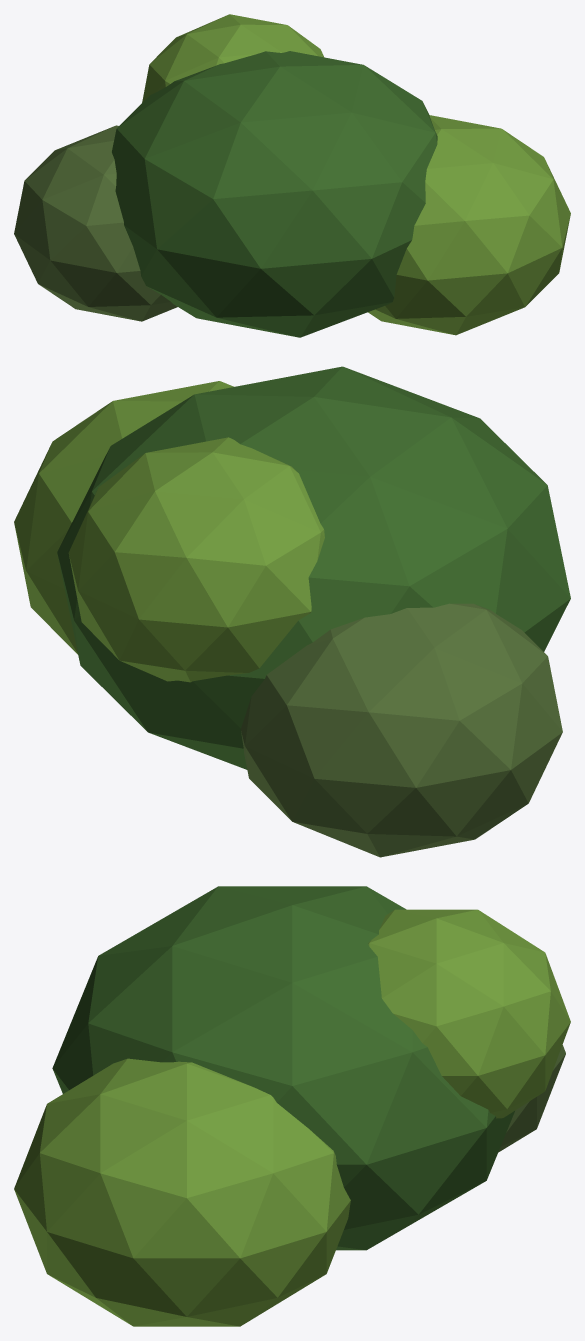
The model's file is bush.glb.
3 renders of one model, top to bottom at view 1: azimuth 30°, elevation 25°; view 2: azimuth 150°, elevation 25°; view 3: azimuth 270°, elevation 25°, orthographic. The views are drawn at different scales.
Parts seen in each view (by area): view 1: Shrub, Shrub.001, Shrub.002, Shrub.003; view 2: Shrub, Shrub.002, Shrub.003, Shrub.001; view 3: Shrub, Shrub.001, Shrub.003, Shrub.002.
Boxes of the visible parts, bbox=[...] form: Shrub: bbox=[112, 51, 437, 337]; Shrub.001: bbox=[368, 115, 570, 335]; Shrub.002: bbox=[14, 125, 177, 321]; Shrub.003: bbox=[142, 14, 323, 102]; Shrub: bbox=[57, 366, 570, 769]; Shrub.002: bbox=[240, 603, 562, 857]; Shrub.003: bbox=[68, 437, 324, 682]; Shrub.001: bbox=[14, 381, 233, 654]; Shrub: bbox=[52, 886, 514, 1250]; Shrub.001: bbox=[14, 1058, 350, 1326]; Shrub.003: bbox=[368, 909, 570, 1118]; Shrub.002: bbox=[498, 1045, 565, 1152].
Size of the model in its own units: 1.36 by 0.763 by 1.16.
